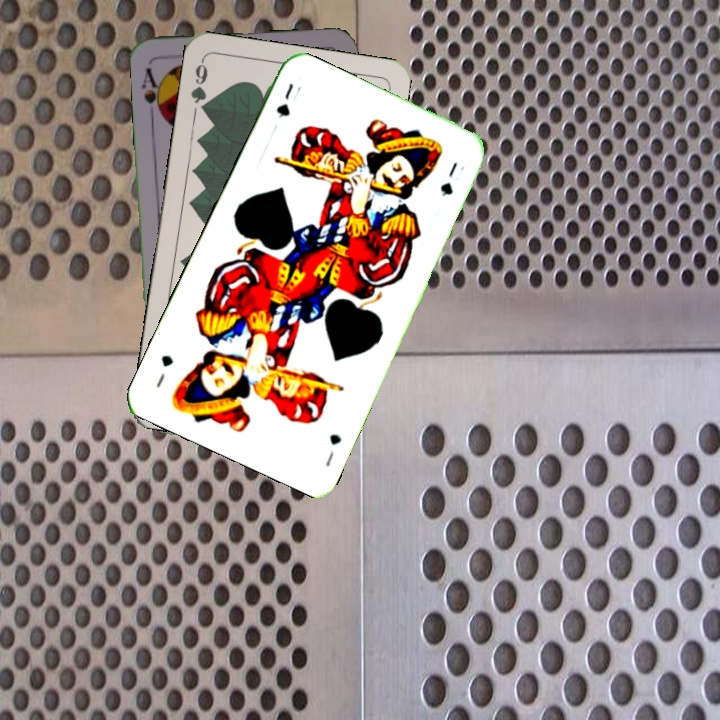G9: (187, 56, 211, 117)
GU: (272, 79, 296, 121), (321, 429, 345, 470)
SA: (138, 64, 166, 120)
